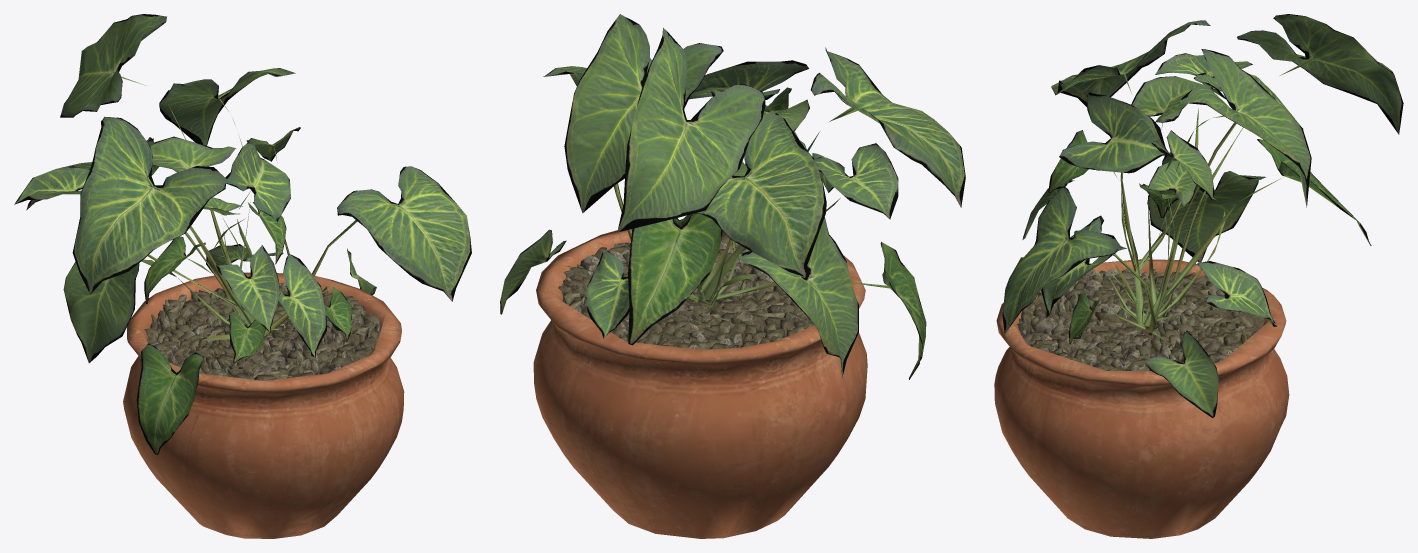
Rendered from potted_plant_02.glb.
3 views of the same model, side by side, from view 1: azimuth 30°, elevation 25°; view 2: azimuth 150°, elevation 25°; view 3: azimuth 270°, elevation 25° (orthographic). The views are drawn at different scales.
Visible parts, largest first — view 1: potted_plant_02_leaves, potted_plant_02_pot; view 2: potted_plant_02_leaves, potted_plant_02_pot; view 3: potted_plant_02_pot, potted_plant_02_leaves.
Part boxes in pixels (bbox=[...]): potted_plant_02_leaves: bbox=[14, 14, 471, 454]; potted_plant_02_pot: bbox=[123, 272, 404, 538]; potted_plant_02_leaves: bbox=[500, 14, 965, 379]; potted_plant_02_pot: bbox=[533, 229, 867, 538]; potted_plant_02_pot: bbox=[994, 259, 1289, 538]; potted_plant_02_leaves: bbox=[1002, 14, 1403, 417].
Bounding box in the file's own units: 0.7012 × 0.8395 × 0.6561.
2 materials, 2 textured.
